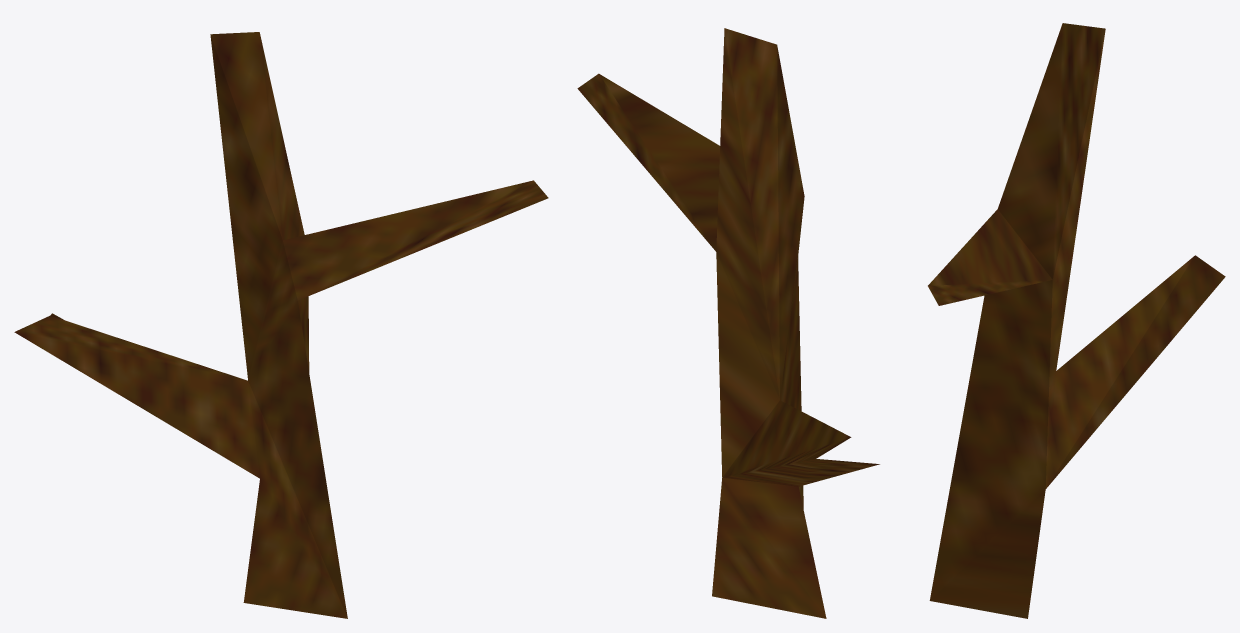
Rendered from treebranch09.glb.
3 renders of one model, left to right at view 1: azimuth 30°, elevation 25°; view 2: azimuth 150°, elevation 25°; view 3: azimuth 270°, elevation 25°, orthographic. The views are drawn at different scales.
Parts seen in each view (by area): view 1: treebranch09; view 2: treebranch09; view 3: treebranch09.
Boxes of the visible parts, x1=… form: treebranch09: x1=14, y1=32, x2=548, y2=618; treebranch09: x1=577, y1=28, x2=879, y2=618; treebranch09: x1=928, y1=23, x2=1225, y2=618.
Size of the model in its own units: 499 by 652 by 331.
Materials: 1 (1 with a texture image).
